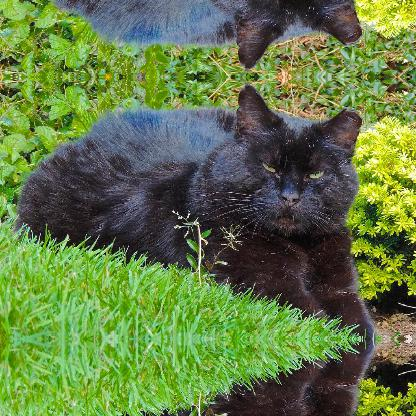Cat: (12, 79, 380, 337), (12, 339, 381, 415), (12, 0, 381, 74)
